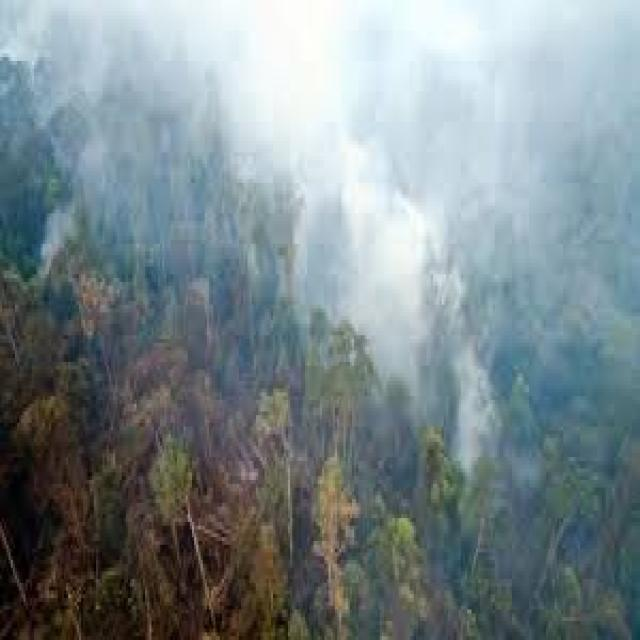Smoke: (112, 8, 616, 314), (324, 127, 514, 449)
